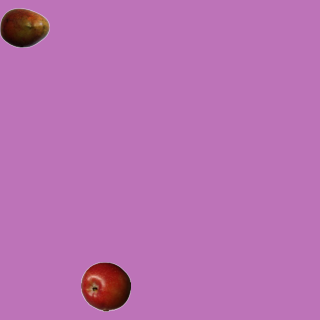Apple Braeburn: (80, 261, 130, 311)
Mango Red: (0, 2, 49, 52)
